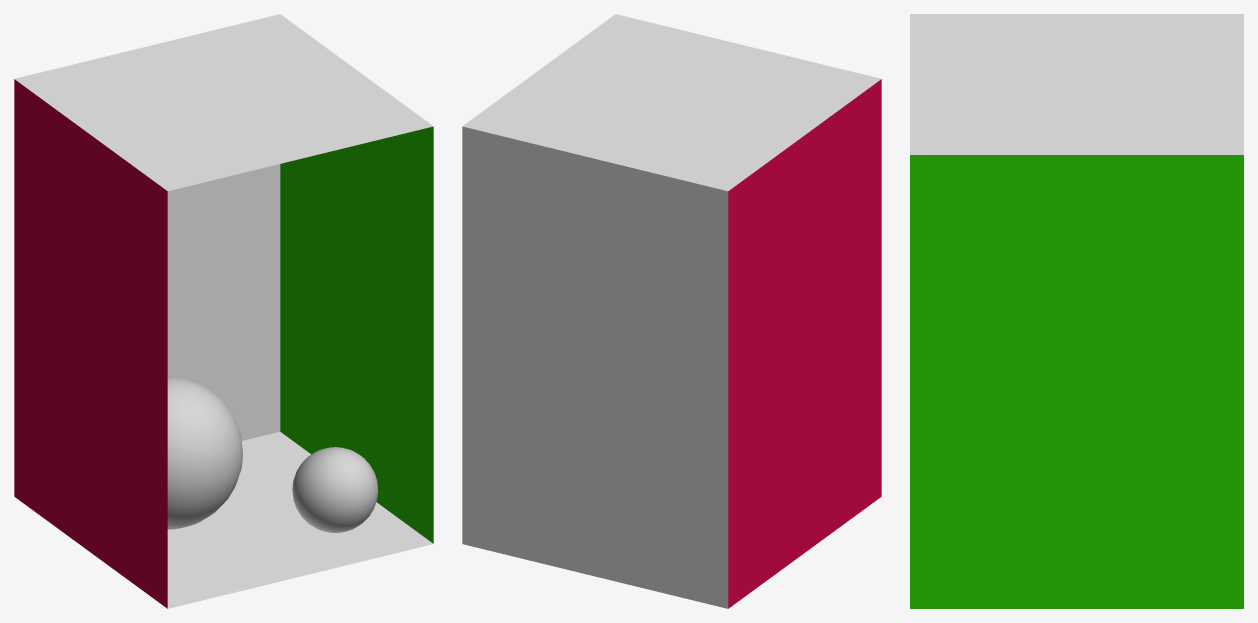
The model's file is cornell-box.dae.
3 views of the same model, side by side, from view 1: azimuth 30°, elevation 25°; view 2: azimuth 150°, elevation 25°; view 3: azimuth 270°, elevation 25° (orthographic). The views are drawn at different scales.
Parts seen in each view (by area): view 1: Cornellbox, Sphere, Sphere_001; view 2: Cornellbox; view 3: Cornellbox.
Part boxes in pixels (x1,y1,x2,y2): Cornellbox: (14, 14, 433, 608); Sphere: (167, 376, 242, 529); Sphere_001: (292, 447, 378, 532); Cornellbox: (462, 14, 881, 608); Cornellbox: (910, 14, 1243, 608).
Bounding box in the file's own units: 4 × 4 × 6.
